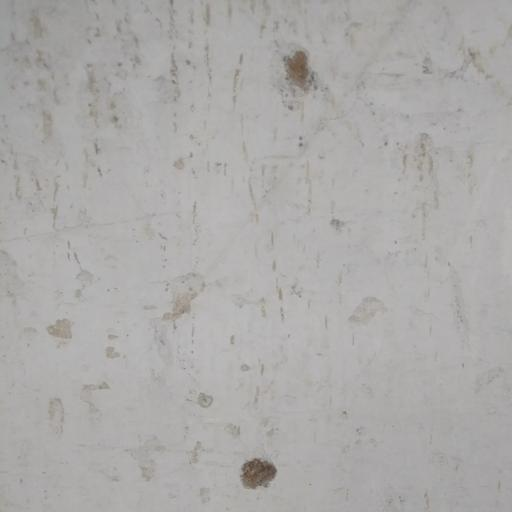stain: (16, 248, 425, 512), (239, 29, 340, 126)
